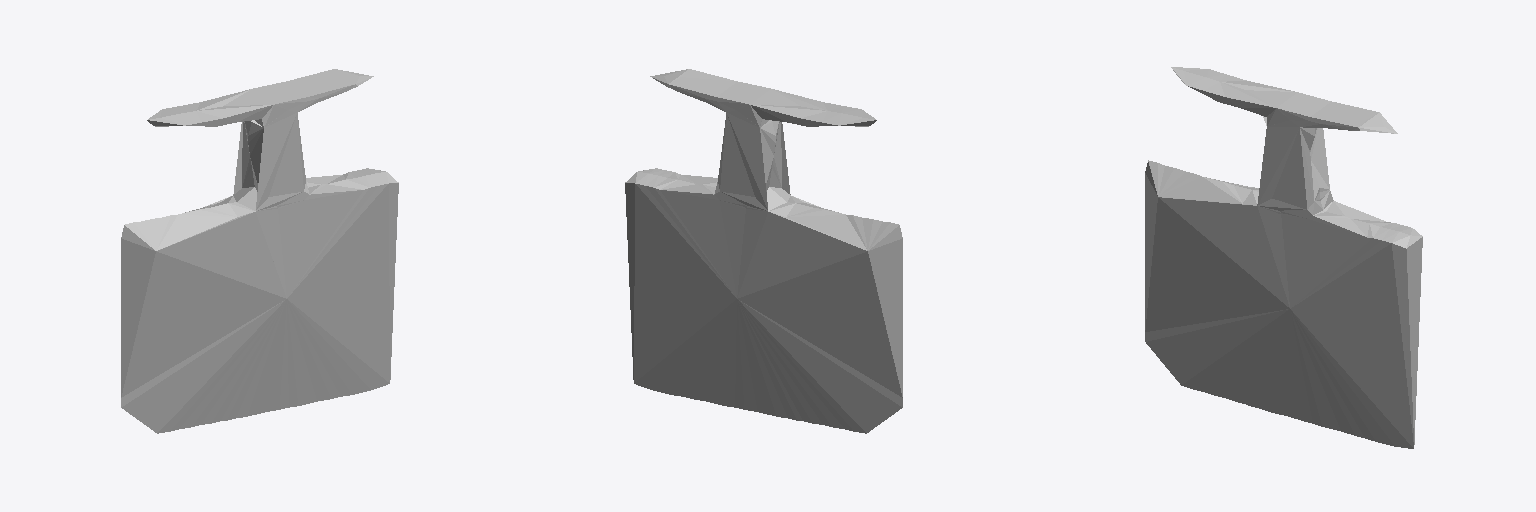
File: monitor.obj
The picture shows the model from 3 angles: view 1: azimuth 30°, elevation 25°; view 2: azimuth 150°, elevation 25°; view 3: azimuth 330°, elevation 25°; orthographic projection.
Visible parts, largest first — view 1: grp1; view 2: grp1; view 3: grp1.
Part boxes in pixels (x1,y1,x2,y2): grp1: (121, 69, 398, 433); grp1: (625, 69, 902, 433); grp1: (1145, 67, 1422, 448).
Size of the model in its own units: 284 by 328 by 41.38.